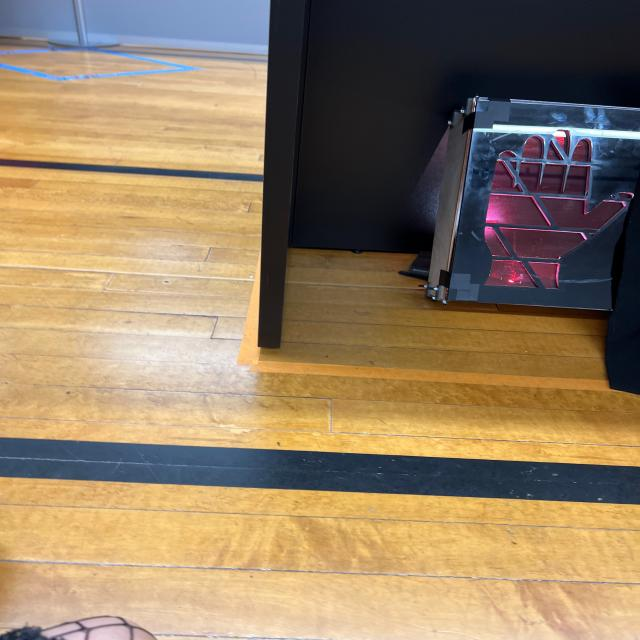stop: (483, 102, 640, 304)
